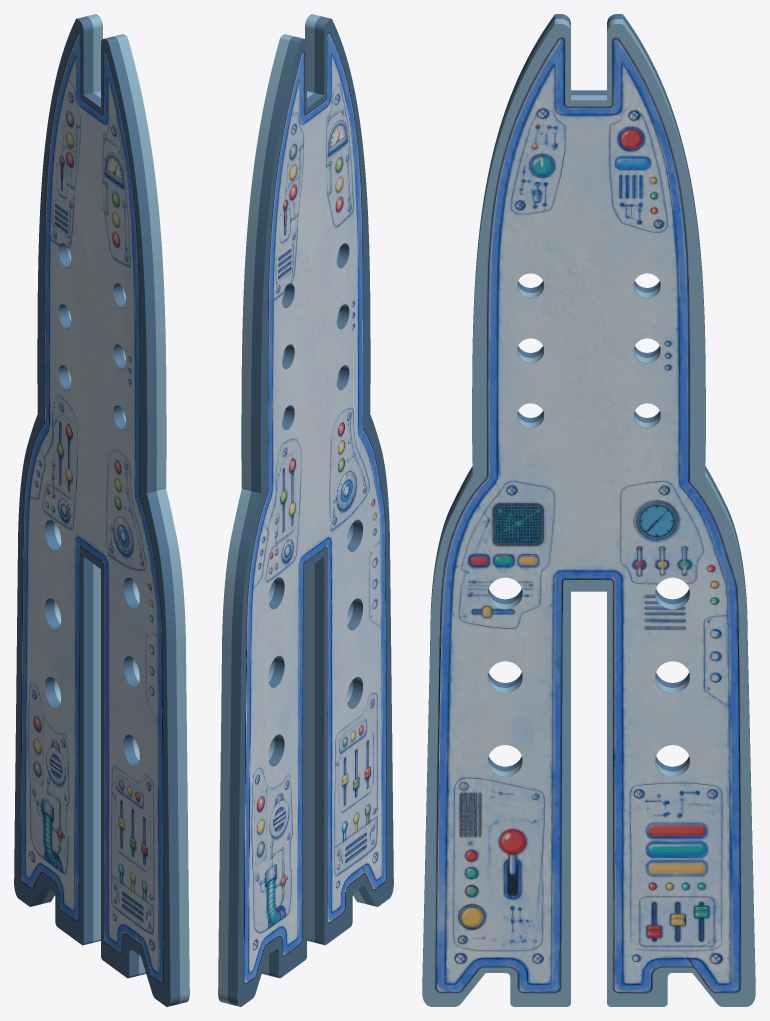
Rendered from connector-3.glb.
3 views of the same model, side by side, from view 1: azimuth 30°, elevation 25°; view 2: azimuth 150°, elevation 25°; view 3: azimuth 270°, elevation 25° (orthographic). The views are drawn at different scales.
Visible parts, largest first — view 1: connector-3; view 2: connector-3; view 3: connector-3.
Boxes of the visible parts, <box> form: connector-3: <box>14,14,189,1006</box>; connector-3: <box>218,14,393,1006</box>; connector-3: <box>422,14,755,1006</box>.
Size of the model in its own units: 24 by 1095 by 337.
Materials: 4 (2 with a texture image).
